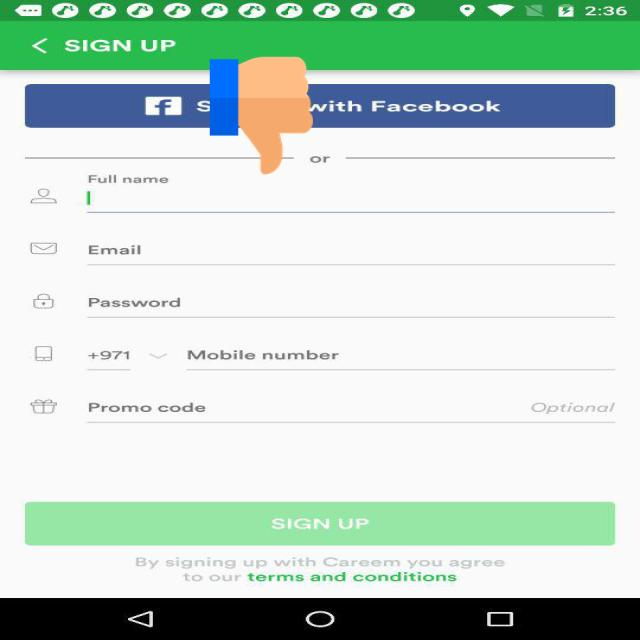obstruction: (210, 54, 313, 177)
